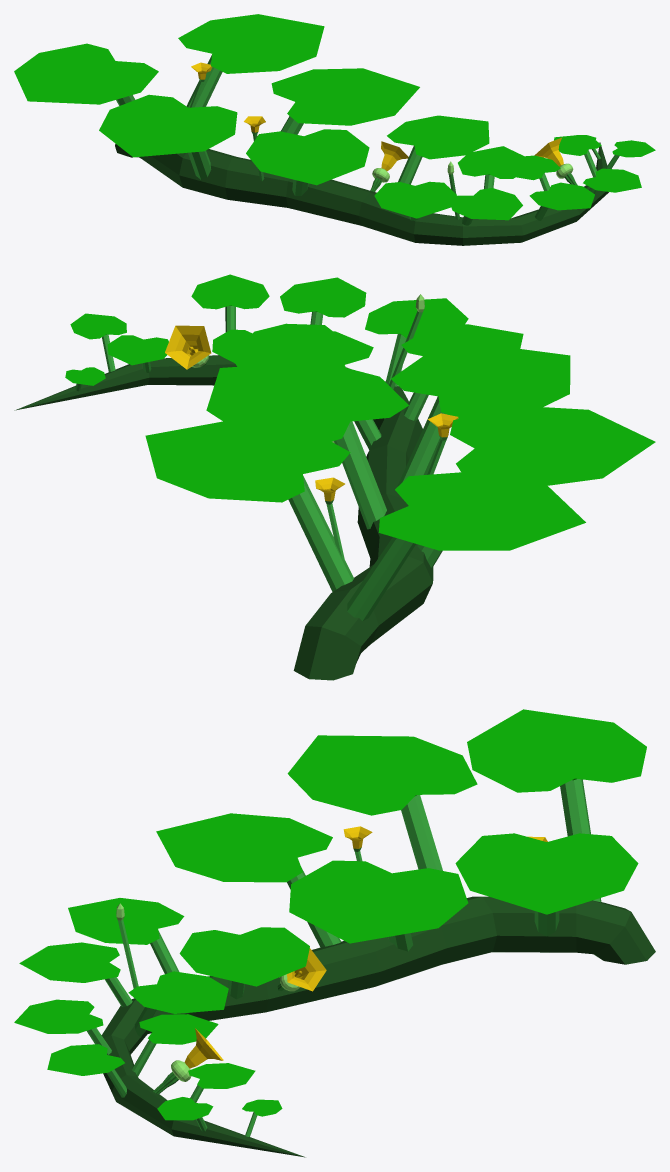
The model's file is youngpumpkin.fbx.
3 views of the same model, one above another, from view 1: azimuth 30°, elevation 25°; view 2: azimuth 150°, elevation 25°; view 3: azimuth 270°, elevation 25° (orthographic). The views are drawn at different scales.
Parts seen in each view (by area): view 1: Main stem, Leaf, Leaf.001, Leaf.002, Leaf.004, Leaf.003, Leaf.005, Leaf.006, Leaf.007, Leaf.008, Leaf.009, Leaf.011 (+6 smaller); view 2: Main stem, Leaf, Leaf.004, Leaf.002, Leaf.001, Leaf.003, Leaf.005, Leaf.008, Leaf.006, Leaf.009, Leaf.011, Female.003 (+5 smaller); view 3: Main stem, Leaf.001, Leaf.004, Leaf, Leaf.002, Leaf.003, Leaf.005, Leaf.006, Leaf.008, Leaf.007, Leaf.009, Leaf.010 (+6 smaller).
Part boxes in pixels (<box>): Main stem: <box>115,142,608,245</box>; Leaf: <box>178,14,324,107</box>; Leaf.001: <box>99,94,237,179</box>; Leaf.002: <box>271,68,419,134</box>; Leaf.004: <box>14,43,158,105</box>; Leaf.003: <box>246,129,369,195</box>; Leaf.005: <box>387,115,489,184</box>; Leaf.006: <box>374,181,456,220</box>; Leaf.007: <box>458,146,528,188</box>; Leaf.008: <box>451,188,522,225</box>; Leaf.009: <box>529,182,594,220</box>; Leaf.011: <box>583,168,641,208</box>; Main stem: <box>14,355,433,680</box>; Leaf: <box>145,418,353,591</box>; Leaf.004: <box>347,471,585,621</box>; Leaf.002: <box>206,361,408,529</box>; Leaf.001: <box>417,405,655,567</box>; Leaf.003: <box>391,344,570,486</box>; Leaf.005: <box>224,328,381,449</box>; Leaf.008: <box>365,298,468,386</box>; Leaf.006: <box>401,324,523,420</box>; Leaf.009: <box>280,277,366,324</box>; Leaf.011: <box>191,274,269,332</box>; Female.003: <box>165,325,211,369</box>; Main stem: <box>101,896,655,1157</box>; Leaf.001: <box>287,735,477,870</box>; Leaf.004: <box>467,709,646,902</box>; Leaf: <box>455,833,638,936</box>; Leaf.002: <box>289,860,468,951</box>; Leaf.003: <box>156,813,341,947</box>; Leaf.005: <box>179,927,309,999</box>; Leaf.006: <box>68,898,184,973</box>; Leaf.008: <box>19,942,132,1006</box>; Leaf.007: <box>128,971,228,1036</box>; Leaf.009: <box>14,999,111,1054</box>; Leaf.010: <box>132,1014,218,1076</box>.
Size of the model in its own units: 246 by 53.54 by 210.
